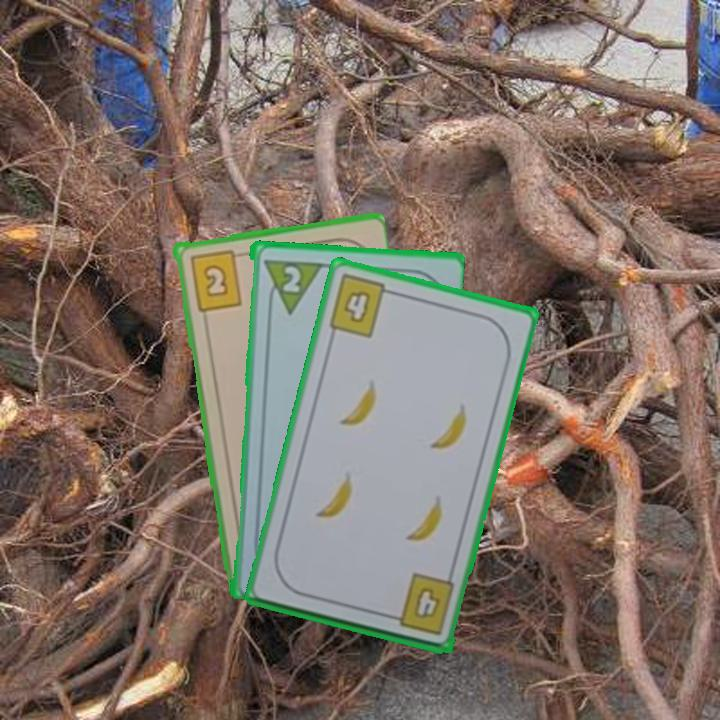2b: (186, 246, 247, 313)
2p: (277, 262, 304, 295)
4b: (325, 270, 399, 341), (384, 570, 457, 638)
